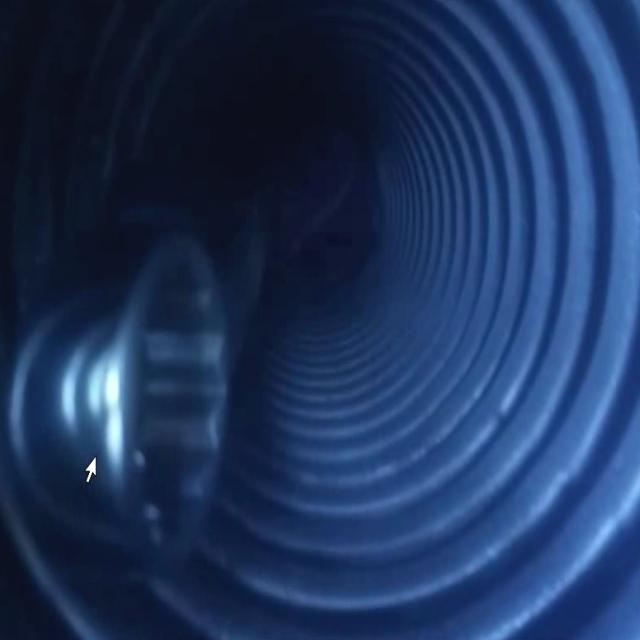metal piece: (3, 236, 227, 555)
